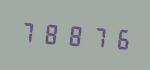eight: (40, 17, 61, 49), (62, 19, 83, 50)
seven: (84, 20, 105, 52), (18, 16, 39, 47)
six: (106, 22, 127, 53)
